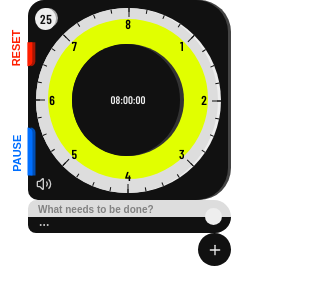
Test case: App › 25分タイマーを押し込み式ボタンで開始・停止できる
The image size is (332, 283).
Expected: the field showing "00:30:00" is not shown
Click the button "25" at (48, 18), box x1=38 y1=8 x2=58 y2=28
Wait 1000 ms
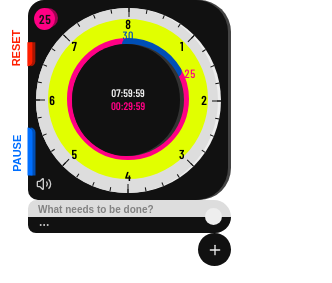
Expected: the 2nd field showing "00:29:59" is shown, x1=103 y1=99 x2=153 y2=112
Click the button "25" at (48, 18), box x1=38 y1=8 x2=58 y2=28
Wait 3000 ms
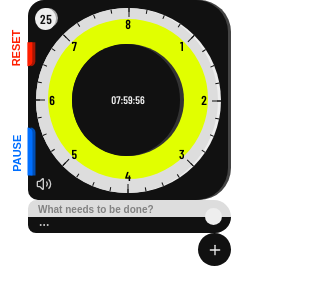
Expected: the field showing "00:29:59" is not shown
Expected: the button "25" is not pressed
Click the button "25" at (48, 18), box x1=38 y1=8 x2=58 y2=28
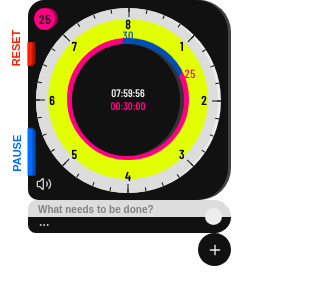
Expected: the 2nd field showing "00:30:00" is shown, x1=103 y1=99 x2=153 y2=112
